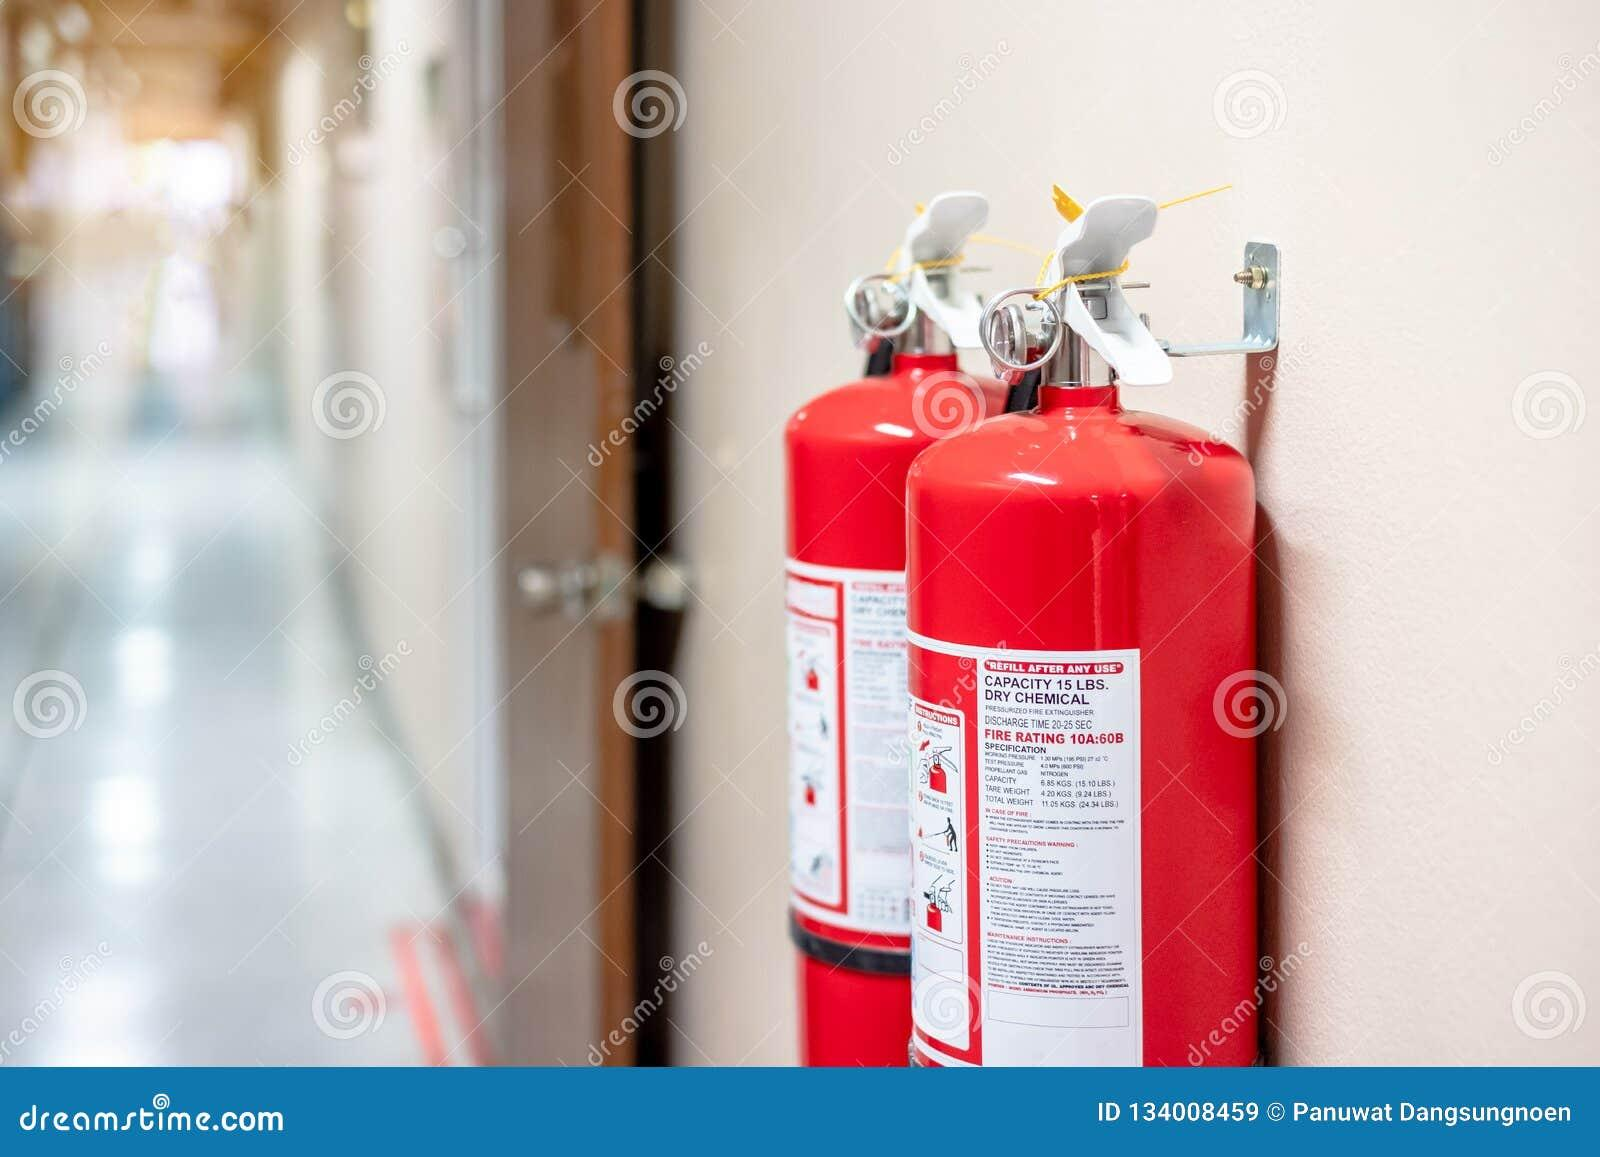wall-mounted: (906, 200, 1280, 1064), (775, 195, 1020, 1061)
